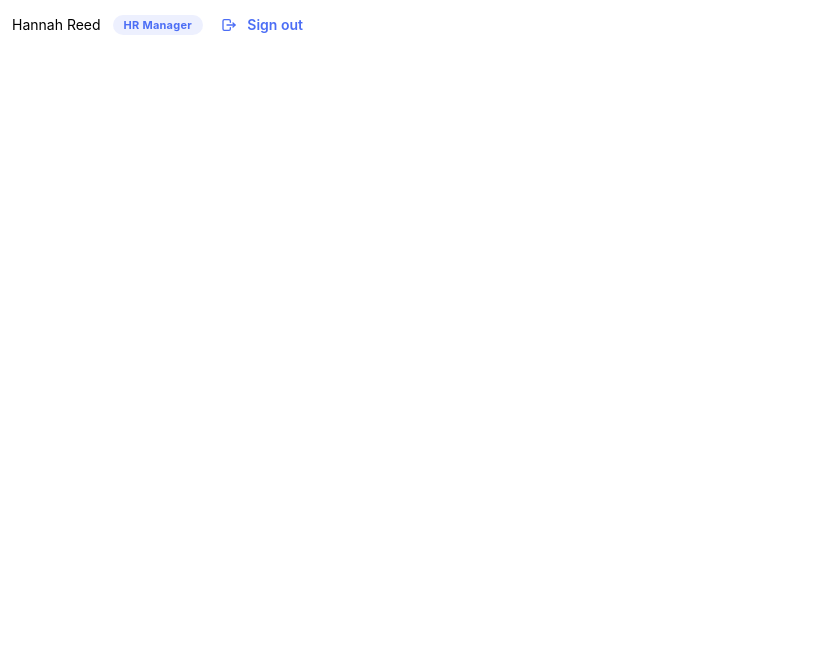
Test case: sign-in › signs out back to the sign-in screen
Click the button "Sign out": (264, 25) [215,12,312,38]
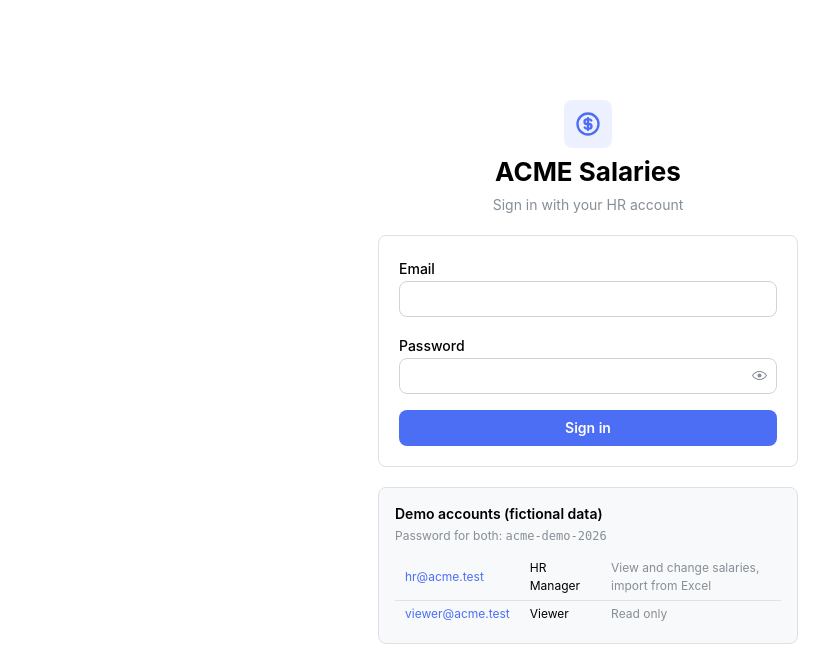
Check: the button "Sign in" is shown, box [399,410,777,446]
